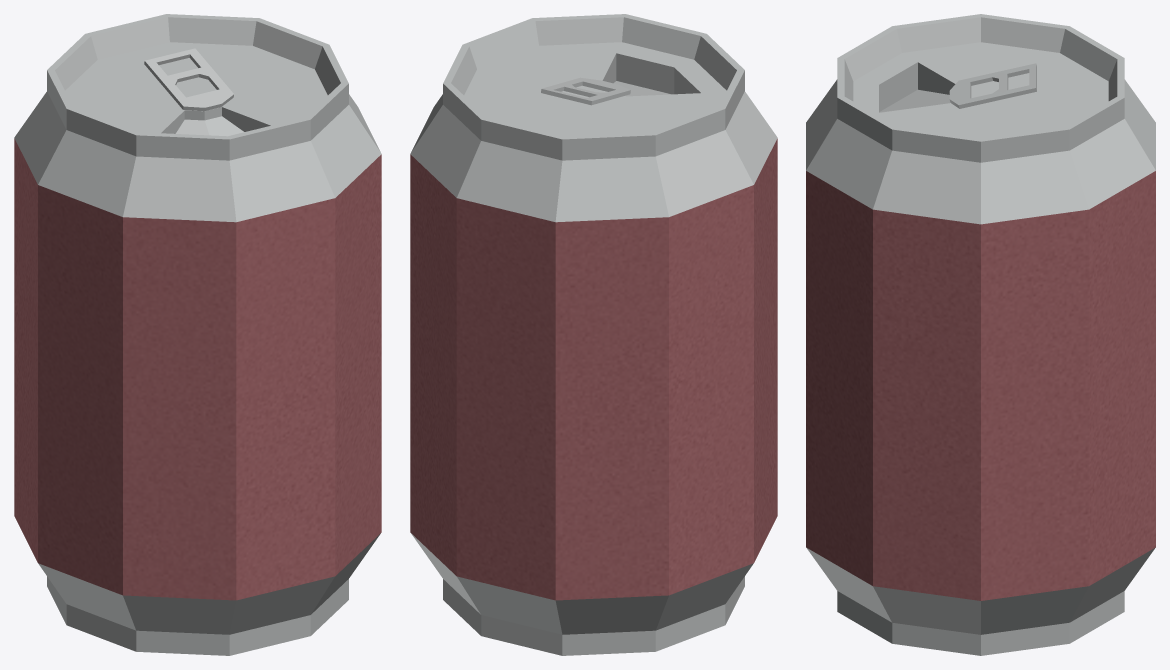
The model's file is can.fbx.
3 renders of one model, left to right at view 1: azimuth 30°, elevation 25°; view 2: azimuth 150°, elevation 25°; view 3: azimuth 270°, elevation 25°, orthographic.
Visible parts, largest first — view 1: pCylinder15; view 2: pCylinder15; view 3: pCylinder15.
Boxes of the visible parts, x1=… form: pCylinder15: x1=14, y1=14, x2=381, y2=655; pCylinder15: x1=410, y1=14, x2=777, y2=655; pCylinder15: x1=806, y1=14, x2=1155, y2=655.
Bounding box in the file's own units: 0.0965 × 0.1494 × 0.0918.
